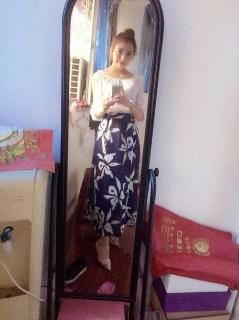short sleeve top: (90, 70, 148, 123)
skirt: (83, 111, 141, 237)
